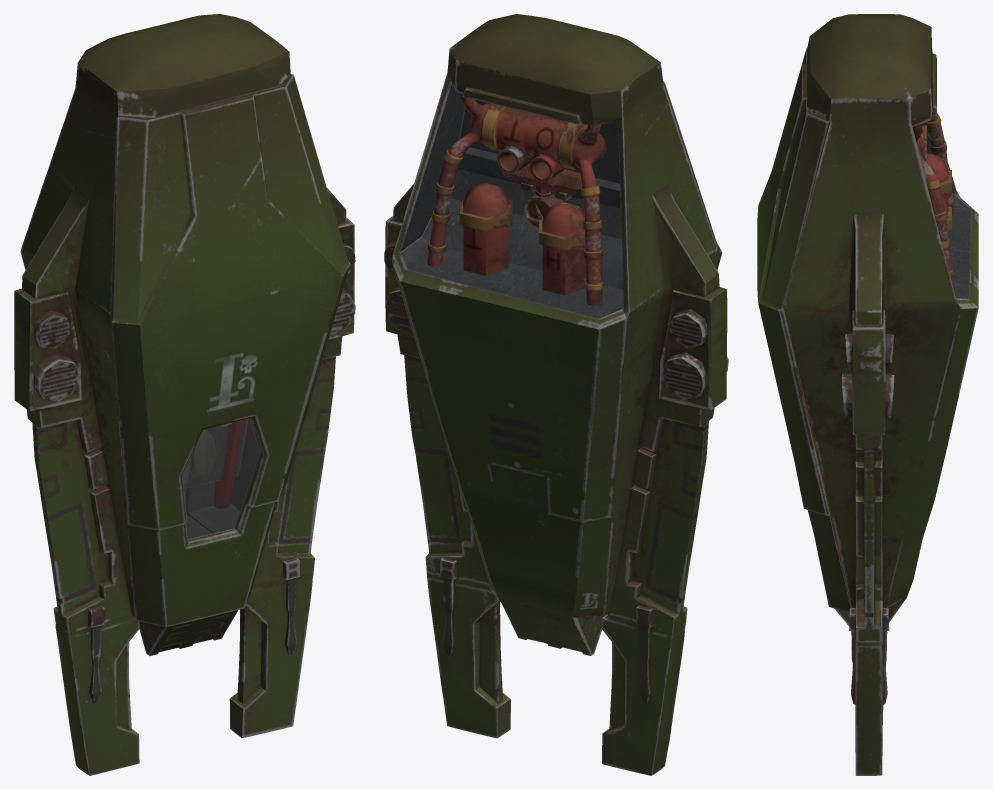
File: capsule-de-survie.glb
3 views of the same model, side by side, from view 1: azimuth 30°, elevation 25°; view 2: azimuth 150°, elevation 25°; view 3: azimuth 270°, elevation 25° (orthographic). The views are drawn at different scales.
Parts seen in each view (by area): view 1: Object_2, Object_3; view 2: Object_2, Object_3; view 3: Object_2, Object_3.
Part boxes in pixels (bbox=[...]): Object_2: bbox=[14, 14, 355, 775]; Object_3: bbox=[182, 418, 261, 541]; Object_2: bbox=[384, 14, 728, 775]; Object_3: bbox=[427, 93, 606, 305]; Object_2: bbox=[757, 14, 978, 775]; Object_3: bbox=[912, 113, 953, 288].
Size of the model in its own units: 581 by 1197 by 347.
1 material, 1 textured.
